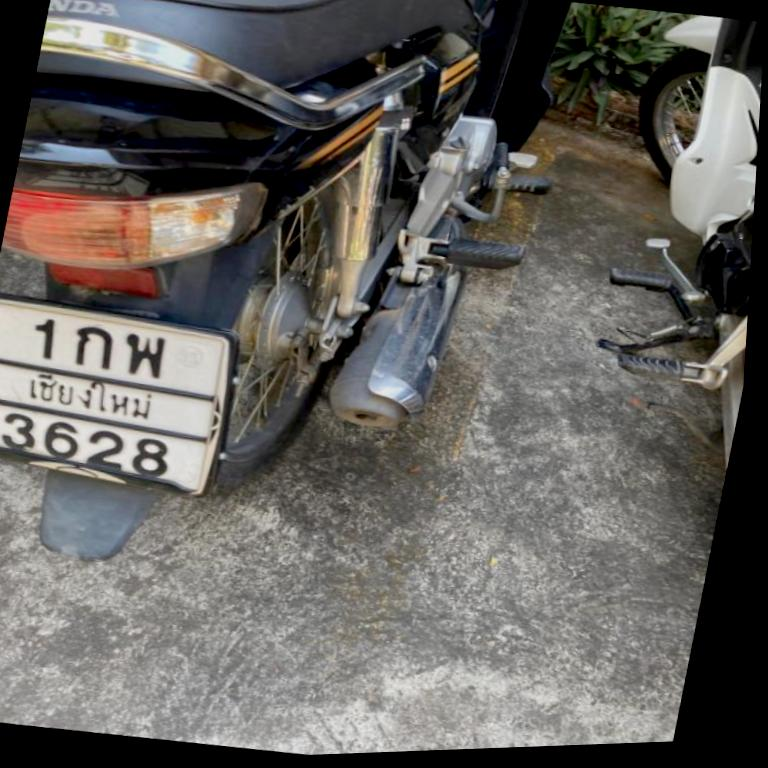license plate: (0, 297, 235, 493)
